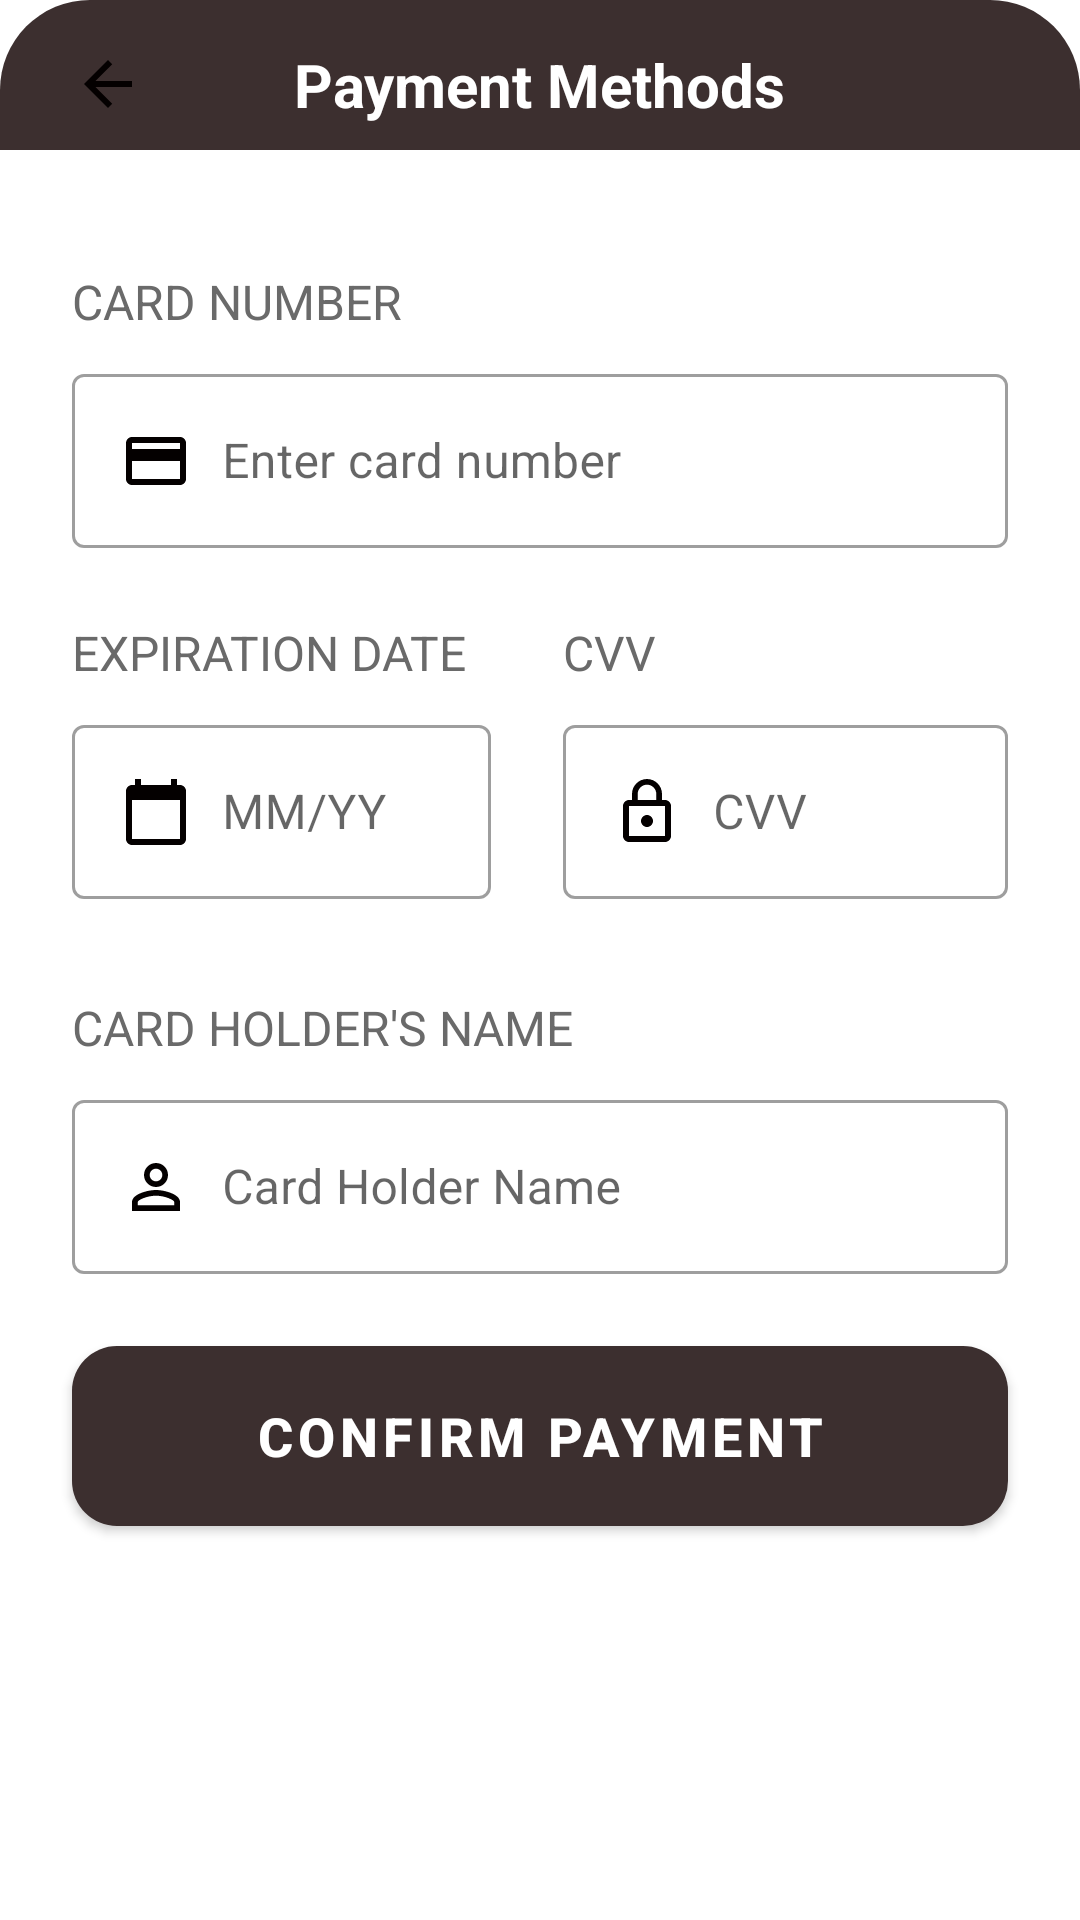

Screen size 1080 x 1920. Icon name, then its center in pixels as (x,y):
back: (108,84)
